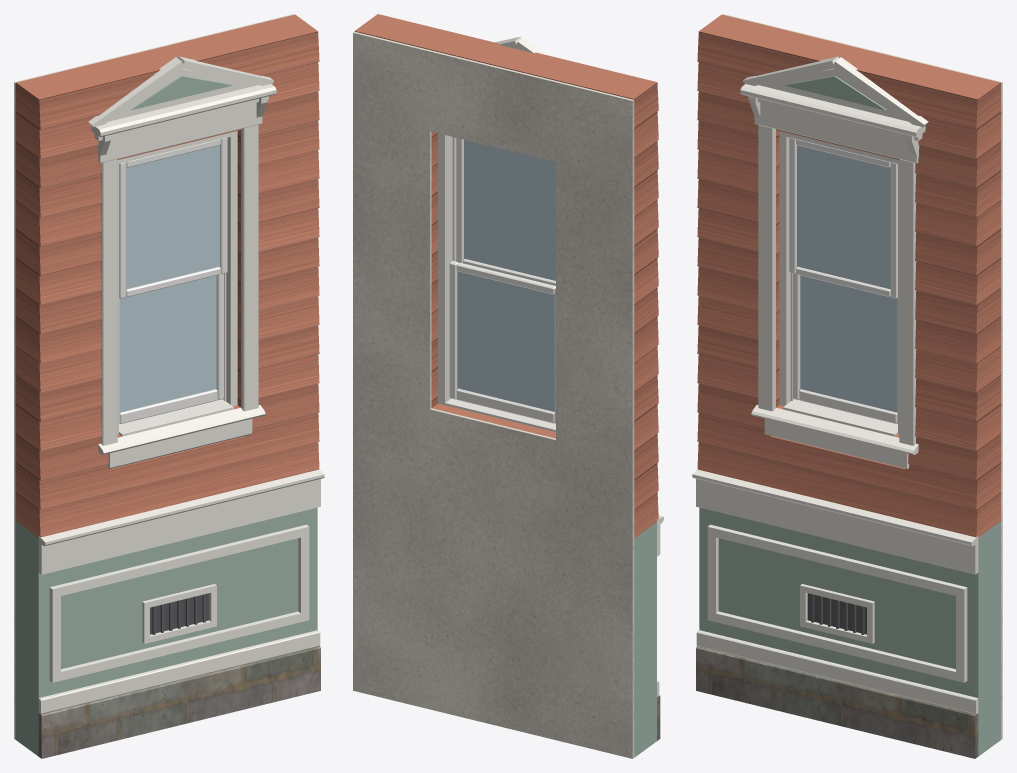
File: f_g_win_e.glb
3 renders of one model, left to right at view 1: azimuth 30°, elevation 25°; view 2: azimuth 150°, elevation 25°; view 3: azimuth 330°, elevation 25°, orthographic.
Visible parts, largest first — view 1: f_g_win_e_siding_e, f_g_win_e_trim, f_g_win_e_acc_e, f_g_win_e_glass, f_g_win_e_plinth, f_g_win_e_sash, f_g_win_e_frame, f_g_win_e_plaster, f_g_win_e_dark, f_g_win_e_iron; view 2: f_g_win_e_plaster, f_g_win_e_glass, f_g_win_e_siding_e, f_g_win_e_sash, f_g_win_e_acc_e, f_g_win_e_frame, f_g_win_e_trim; view 3: f_g_win_e_siding_e, f_g_win_e_trim, f_g_win_e_acc_e, f_g_win_e_glass, f_g_win_e_plinth, f_g_win_e_sash, f_g_win_e_frame, f_g_win_e_plaster, f_g_win_e_dark, f_g_win_e_iron.
Boxes of the visible parts, x1,y1,x2,y2 form: f_g_win_e_siding_e: [16, 14, 319, 537]; f_g_win_e_trim: [38, 56, 324, 713]; f_g_win_e_acc_e: [16, 76, 317, 756]; f_g_win_e_glass: [119, 145, 219, 412]; f_g_win_e_plinth: [38, 646, 320, 758]; f_g_win_e_sash: [119, 137, 227, 423]; f_g_win_e_frame: [117, 131, 237, 434]; f_g_win_e_plaster: [14, 14, 293, 739]; f_g_win_e_dark: [150, 593, 209, 634]; f_g_win_e_iron: [152, 594, 205, 634]; f_g_win_e_plaster: [353, 31, 634, 758]; f_g_win_e_glass: [457, 139, 555, 411]; f_g_win_e_siding_e: [354, 14, 658, 537]; f_g_win_e_sash: [449, 138, 555, 423]; f_g_win_e_acc_e: [634, 522, 656, 757]; f_g_win_e_frame: [438, 133, 456, 404]; f_g_win_e_trim: [445, 36, 663, 696]; f_g_win_e_siding_e: [697, 14, 1000, 537]; f_g_win_e_trim: [692, 56, 978, 713]; f_g_win_e_acc_e: [699, 76, 1000, 756]; f_g_win_e_glass: [797, 145, 897, 412]; f_g_win_e_plinth: [696, 646, 978, 758]; f_g_win_e_sash: [789, 137, 897, 423]; f_g_win_e_frame: [779, 131, 899, 434]; f_g_win_e_plaster: [723, 14, 1002, 739]; f_g_win_e_dark: [807, 593, 866, 634]; f_g_win_e_iron: [811, 594, 864, 634].
Bounding box in the file's own units: 2 × 4.55 × 0.43.
Materials: 10 (3 with a texture image).
